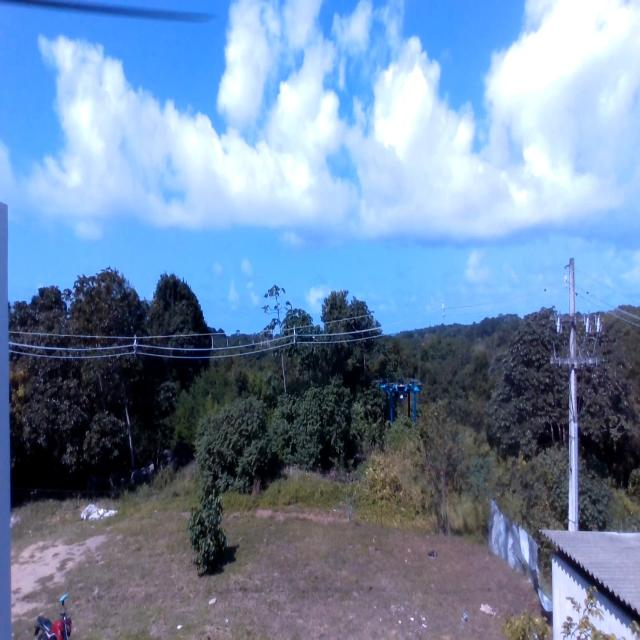-uav-: (374, 369, 429, 435)
